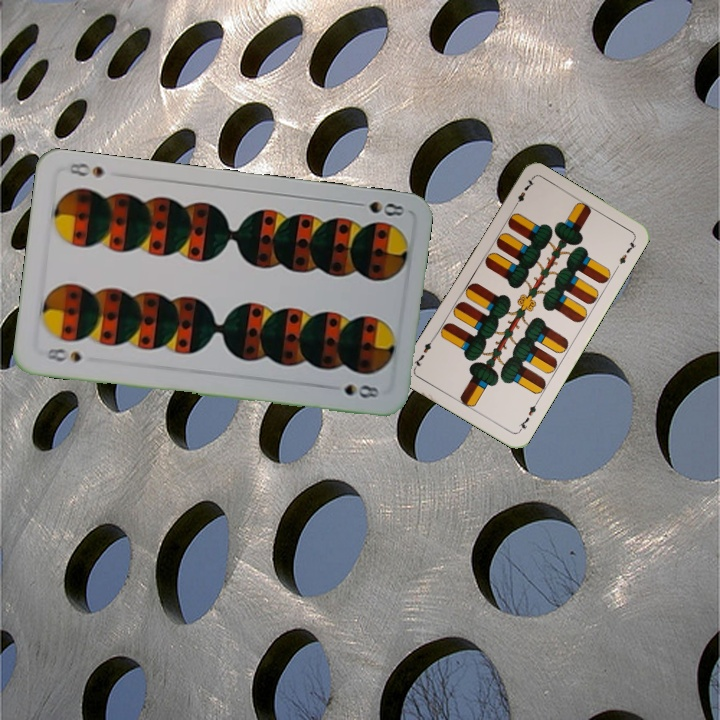E7: (509, 175, 537, 212), (514, 398, 541, 435)
S8: (348, 197, 407, 219), (37, 344, 84, 365)
